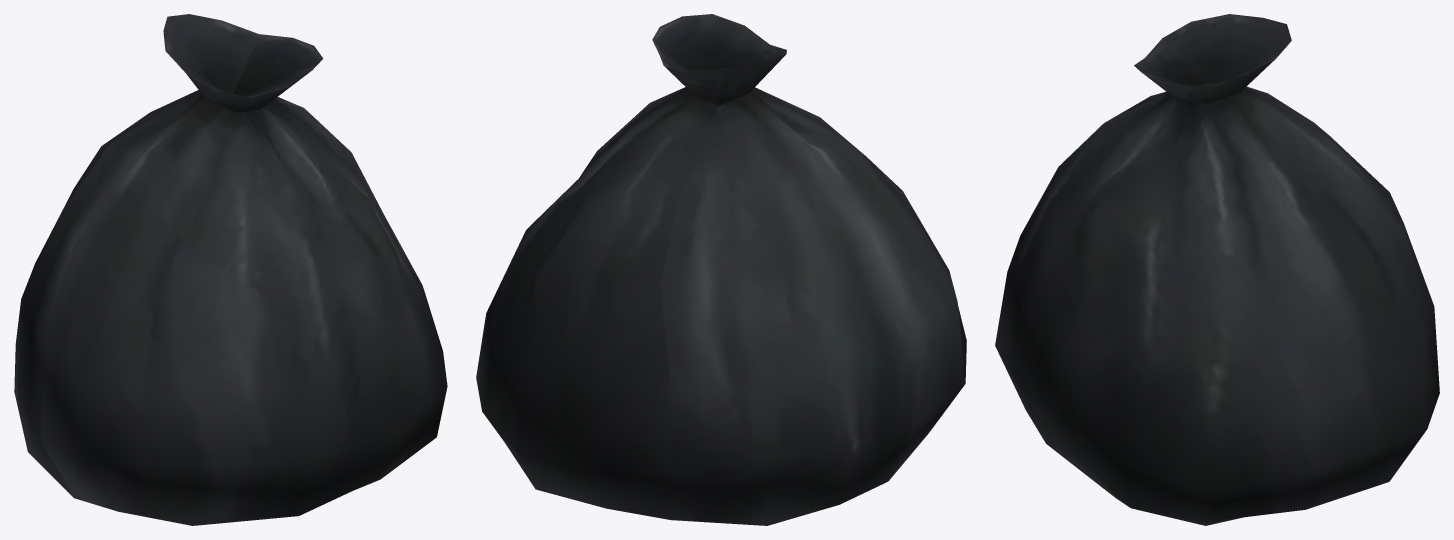
3 views of the same model, side by side, from view 1: azimuth 30°, elevation 25°; view 2: azimuth 150°, elevation 25°; view 3: azimuth 270°, elevation 25° (orthographic). The views are drawn at different scales.
Parts seen in each view (by area): view 1: body0_model0_lod0_mesh0; view 2: body0_model0_lod0_mesh0; view 3: body0_model0_lod0_mesh0.
Boxes of the visible parts, box(x1,y1,x2,y2) form: body0_model0_lod0_mesh0: box(14, 14, 447, 525); body0_model0_lod0_mesh0: box(476, 14, 966, 525); body0_model0_lod0_mesh0: box(995, 14, 1439, 525).
Size of the model in its own units: 45.47 by 47.91 by 44.02.
Materials: 1 (1 with a texture image).
